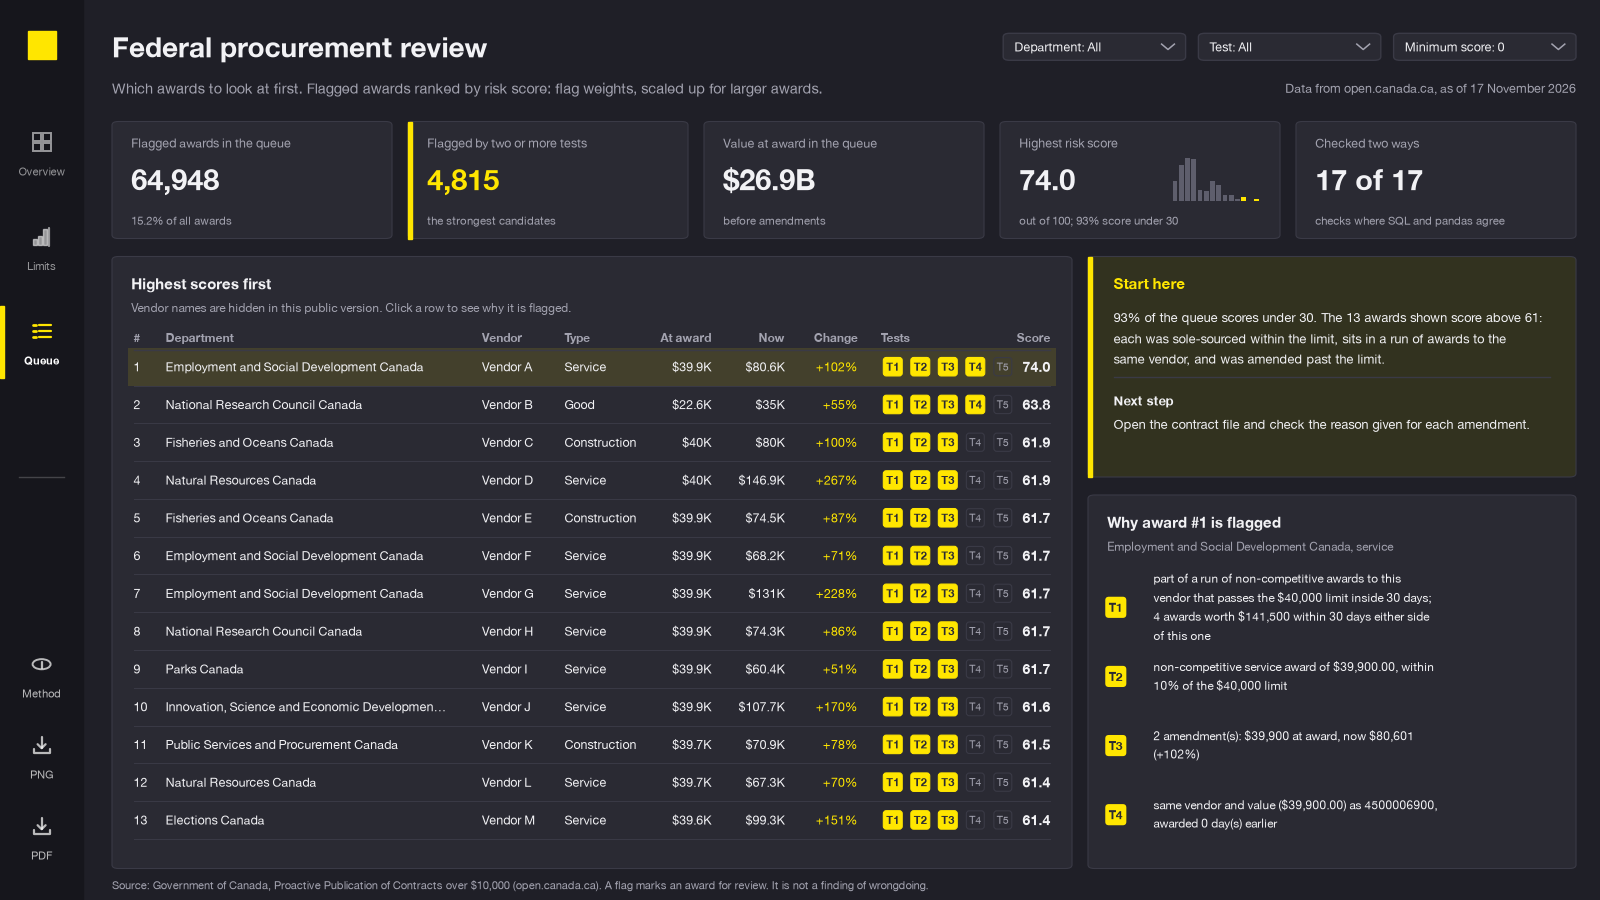

What the dashboard file says about the page in this screenshot:
{"tool":"tableau","page":{"name":"Queue","canvas":[1440,810],"ordinal":2},"visuals":[{"type":"blank","box":[0,0,75.6,810]},{"type":"filter","title":"Card: queue size","param":"[awards].[none:department:nk]","box":[1077.3,16.2,165.6,41.4]},{"type":"filter","title":"Card: queue size","param":"[awards].[none:commodity:nk]","box":[1252.8,16.2,165.6,41.4]},{"type":"text","box":[93.6,19.8,630,41.4]},{"type":"blank","box":[25.2,27,25.2,25.2]},{"type":"text","box":[93.6,64.8,882,25.2]},{"type":"text","box":[1062,64.8,360,25.2]},{"type":"blank","box":[100.8,108.9,252,105.3]},{"type":"blank","box":[367.2,108.9,252,105.3]},{"type":"blank","box":[367.2,108.9,3.6,105.3]},{"type":"blank","box":[633.6,108.9,252,105.3]},{"type":"blank","box":[900,108.9,252,105.3]},{"type":"blank","box":[1166.4,108.9,252,105.3]},{"type":"worksheet","title":"Card: queue size","mark":"Text","box":[115.2,116.1,232.2,92.7]},{"type":"worksheet","title":"Card: two or more","mark":"Text","box":[381.6,116.1,232.2,92.7]},{"type":"worksheet","title":"Card: queue value","mark":"Text","box":[648,116.1,232.2,92.7]},{"type":"worksheet","title":"Card: top score","mark":"Text","box":[914.4,116.1,232.2,92.7]},{"type":"worksheet","title":"Card: checks","mark":"Text","box":[1180.8,116.1,232.2,92.7]},{"type":"text","box":[3.6,126,72,27]},{"type":"text","box":[3.6,210.6,72,27]},{"type":"blank","box":[100.8,231.3,864,545.4]},{"type":"blank","box":[979.2,231.3,439.2,199.8]},{"type":"blank","box":[979.2,231.3,3.6,199.8]},{"type":"worksheet","title":"Review queue","mark":"Text","rows":["risk_rank","department","vendor_code","commodity","c_tests"],"box":[115.2,242.1,835.2,523.8]},{"type":"text","box":[1000.8,245.7,399.6,174.6]},{"type":"blank","box":[0,275.4,3.6,64.8]},{"type":"text","box":[3.6,295.2,72,27]},{"type":"blank","box":[979.2,445.5,439.2,331.2]},{"type":"worksheet","title":"Why it is flagged","mark":"Text","rows":["risk_rank"],"box":[993.6,456.3,410.4,309.6]},{"type":"text","box":[93.6,784.8,1260,21.6]}]}

Visuals, with their boxes on the page's 1440x810 design canvas (x1, y1, x2, y2). These are canvas units, not pixel positions in the 1600x900 screenshot, which may show the page scaled, cropped or inside an application window:
blank: (x1=0, y1=0, x2=76, y2=810)
"Card: queue size" filter: (x1=1077, y1=16, x2=1243, y2=58)
"Card: queue size" filter: (x1=1253, y1=16, x2=1418, y2=58)
text: (x1=94, y1=20, x2=724, y2=61)
blank: (x1=25, y1=27, x2=50, y2=52)
text: (x1=94, y1=65, x2=976, y2=90)
text: (x1=1062, y1=65, x2=1422, y2=90)
blank: (x1=101, y1=109, x2=353, y2=214)
blank: (x1=367, y1=109, x2=619, y2=214)
blank: (x1=367, y1=109, x2=371, y2=214)
blank: (x1=634, y1=109, x2=886, y2=214)
blank: (x1=900, y1=109, x2=1152, y2=214)
blank: (x1=1166, y1=109, x2=1418, y2=214)
"Card: queue size" worksheet (Text marks): (x1=115, y1=116, x2=347, y2=209)
"Card: two or more" worksheet (Text marks): (x1=382, y1=116, x2=614, y2=209)
"Card: queue value" worksheet (Text marks): (x1=648, y1=116, x2=880, y2=209)
"Card: top score" worksheet (Text marks): (x1=914, y1=116, x2=1147, y2=209)
"Card: checks" worksheet (Text marks): (x1=1181, y1=116, x2=1413, y2=209)
text: (x1=4, y1=126, x2=76, y2=153)
text: (x1=4, y1=211, x2=76, y2=238)
blank: (x1=101, y1=231, x2=965, y2=777)
blank: (x1=979, y1=231, x2=1418, y2=431)
blank: (x1=979, y1=231, x2=983, y2=431)
"Review queue" worksheet (Text marks): (x1=115, y1=242, x2=950, y2=766)
text: (x1=1001, y1=246, x2=1400, y2=420)
blank: (x1=0, y1=275, x2=4, y2=340)
text: (x1=4, y1=295, x2=76, y2=322)
blank: (x1=979, y1=446, x2=1418, y2=777)
"Why it is flagged" worksheet (Text marks): (x1=994, y1=456, x2=1404, y2=766)
text: (x1=94, y1=785, x2=1354, y2=806)
